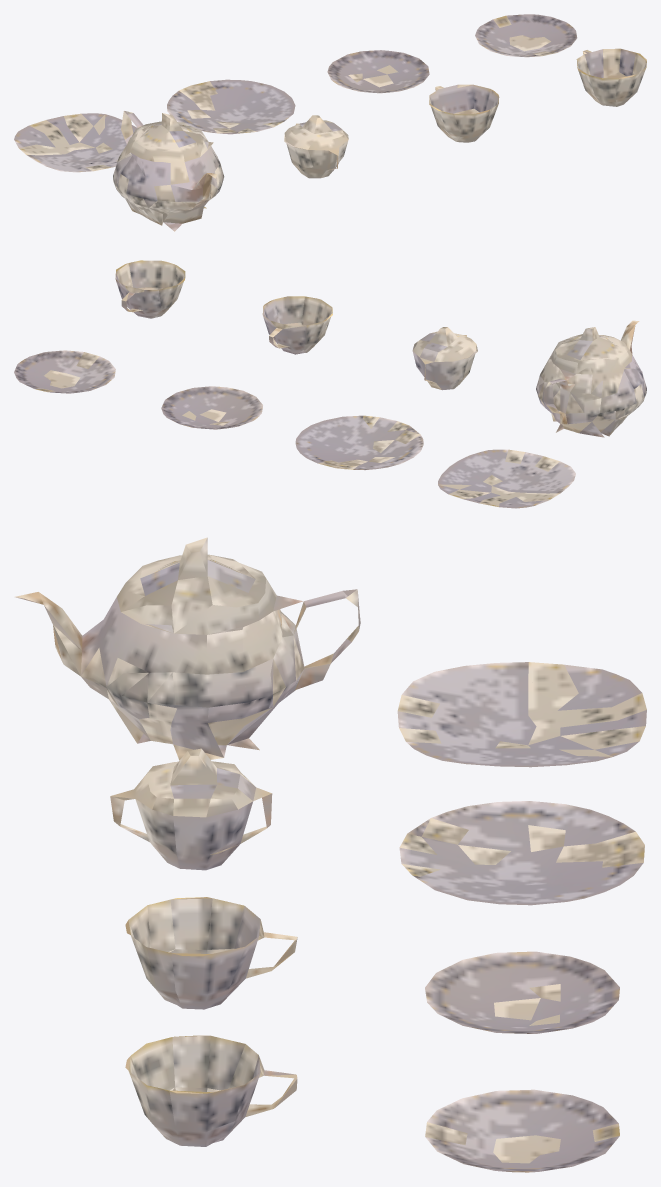
Rendered from tea_set_01.glb.
3 views of the same model, one above another, from view 1: azimuth 30°, elevation 25°; view 2: azimuth 150°, elevation 25°; view 3: azimuth 270°, elevation 25° (orthographic). The views are drawn at different scales.
Parts seen in each view (by area): view 1: mesh; view 2: mesh; view 3: mesh.
Part boxes in pixels (bbox=[...]): mesh: bbox=[14, 14, 646, 231]; mesh: bbox=[14, 260, 646, 508]; mesh: bbox=[15, 537, 646, 1172].
Size of the model in its own units: 0.9336 by 0.165 by 0.4919.
1 material, 1 textured.
